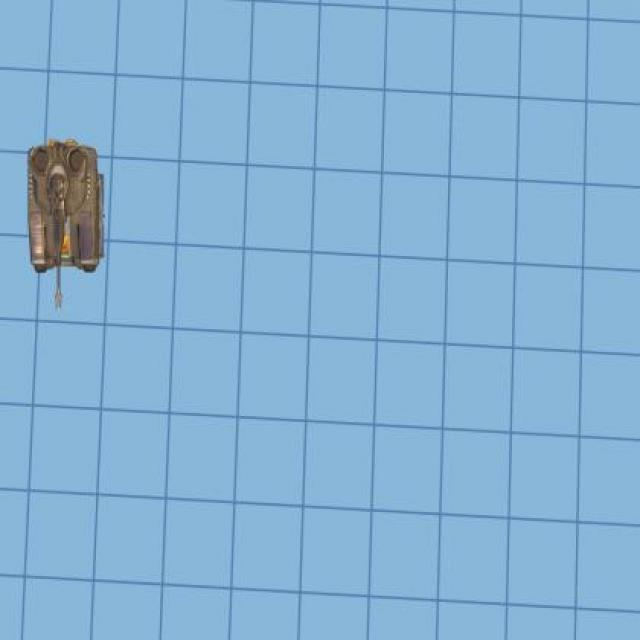tank: (26, 136, 105, 314)
